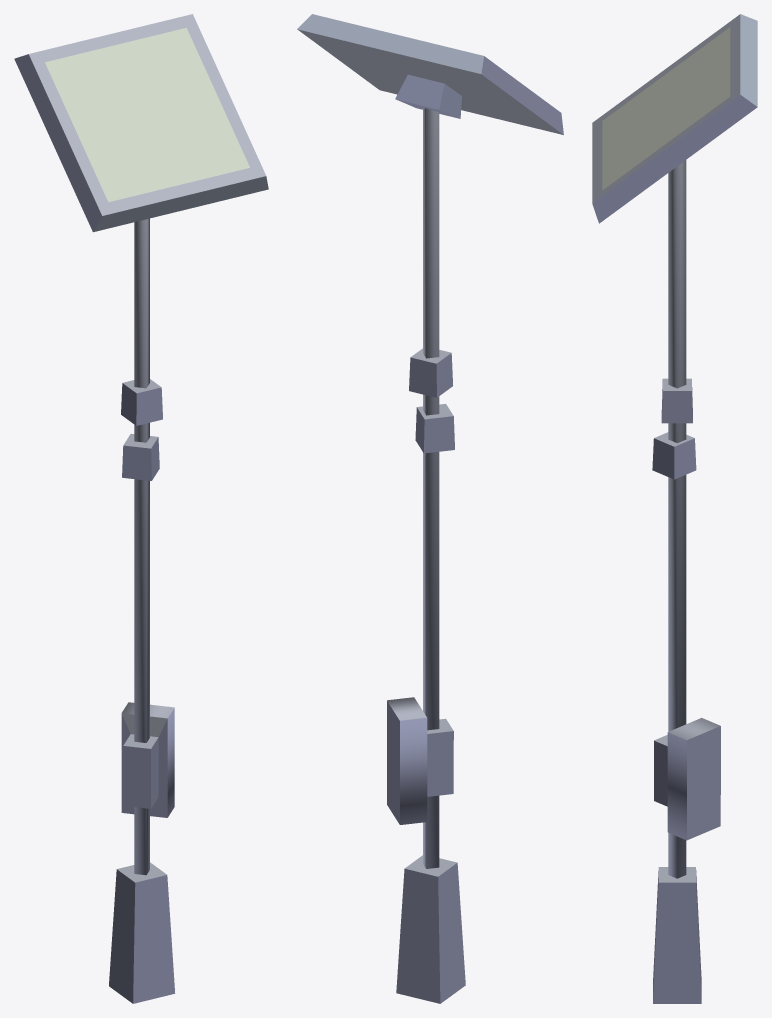
File: camera_pole.glb
3 views of the same model, side by side, from view 1: azimuth 30°, elevation 25°; view 2: azimuth 150°, elevation 25°; view 3: azimuth 270°, elevation 25° (orthographic). The views are drawn at different scales.
Parts seen in each view (by area): view 1: camera_pole; view 2: camera_pole; view 3: camera_pole.
Boxes of the visible parts, box(x1,y1,x2,y2) form: camera_pole: box(14, 14, 268, 1003); camera_pole: box(297, 14, 563, 1003); camera_pole: box(592, 14, 757, 1003).
Bounding box in the file's own units: 0.2609 × 1.32 × 0.2114.
